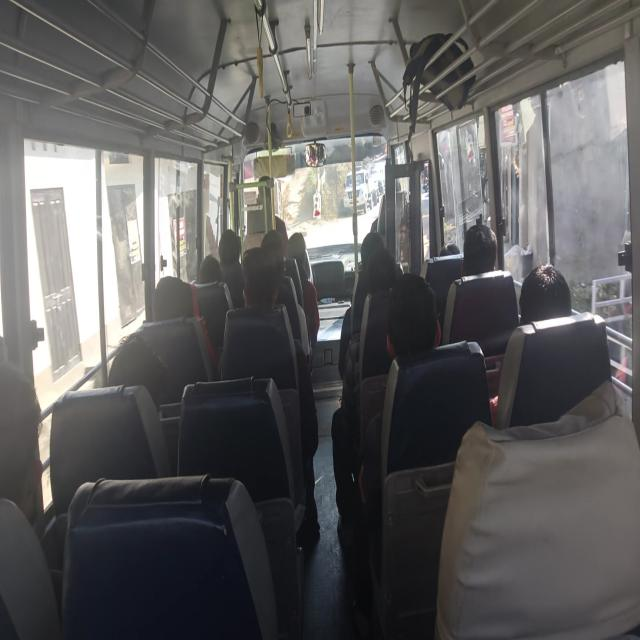person: (2, 351, 53, 533), (383, 271, 444, 359), (104, 321, 166, 405), (516, 259, 567, 338), (151, 271, 209, 320), (243, 248, 275, 322), (462, 220, 499, 284), (362, 249, 402, 291), (216, 211, 247, 261), (377, 172, 417, 210), (287, 233, 312, 284), (254, 166, 282, 208), (197, 249, 224, 288), (263, 229, 284, 279), (359, 228, 391, 252), (438, 240, 463, 264)
